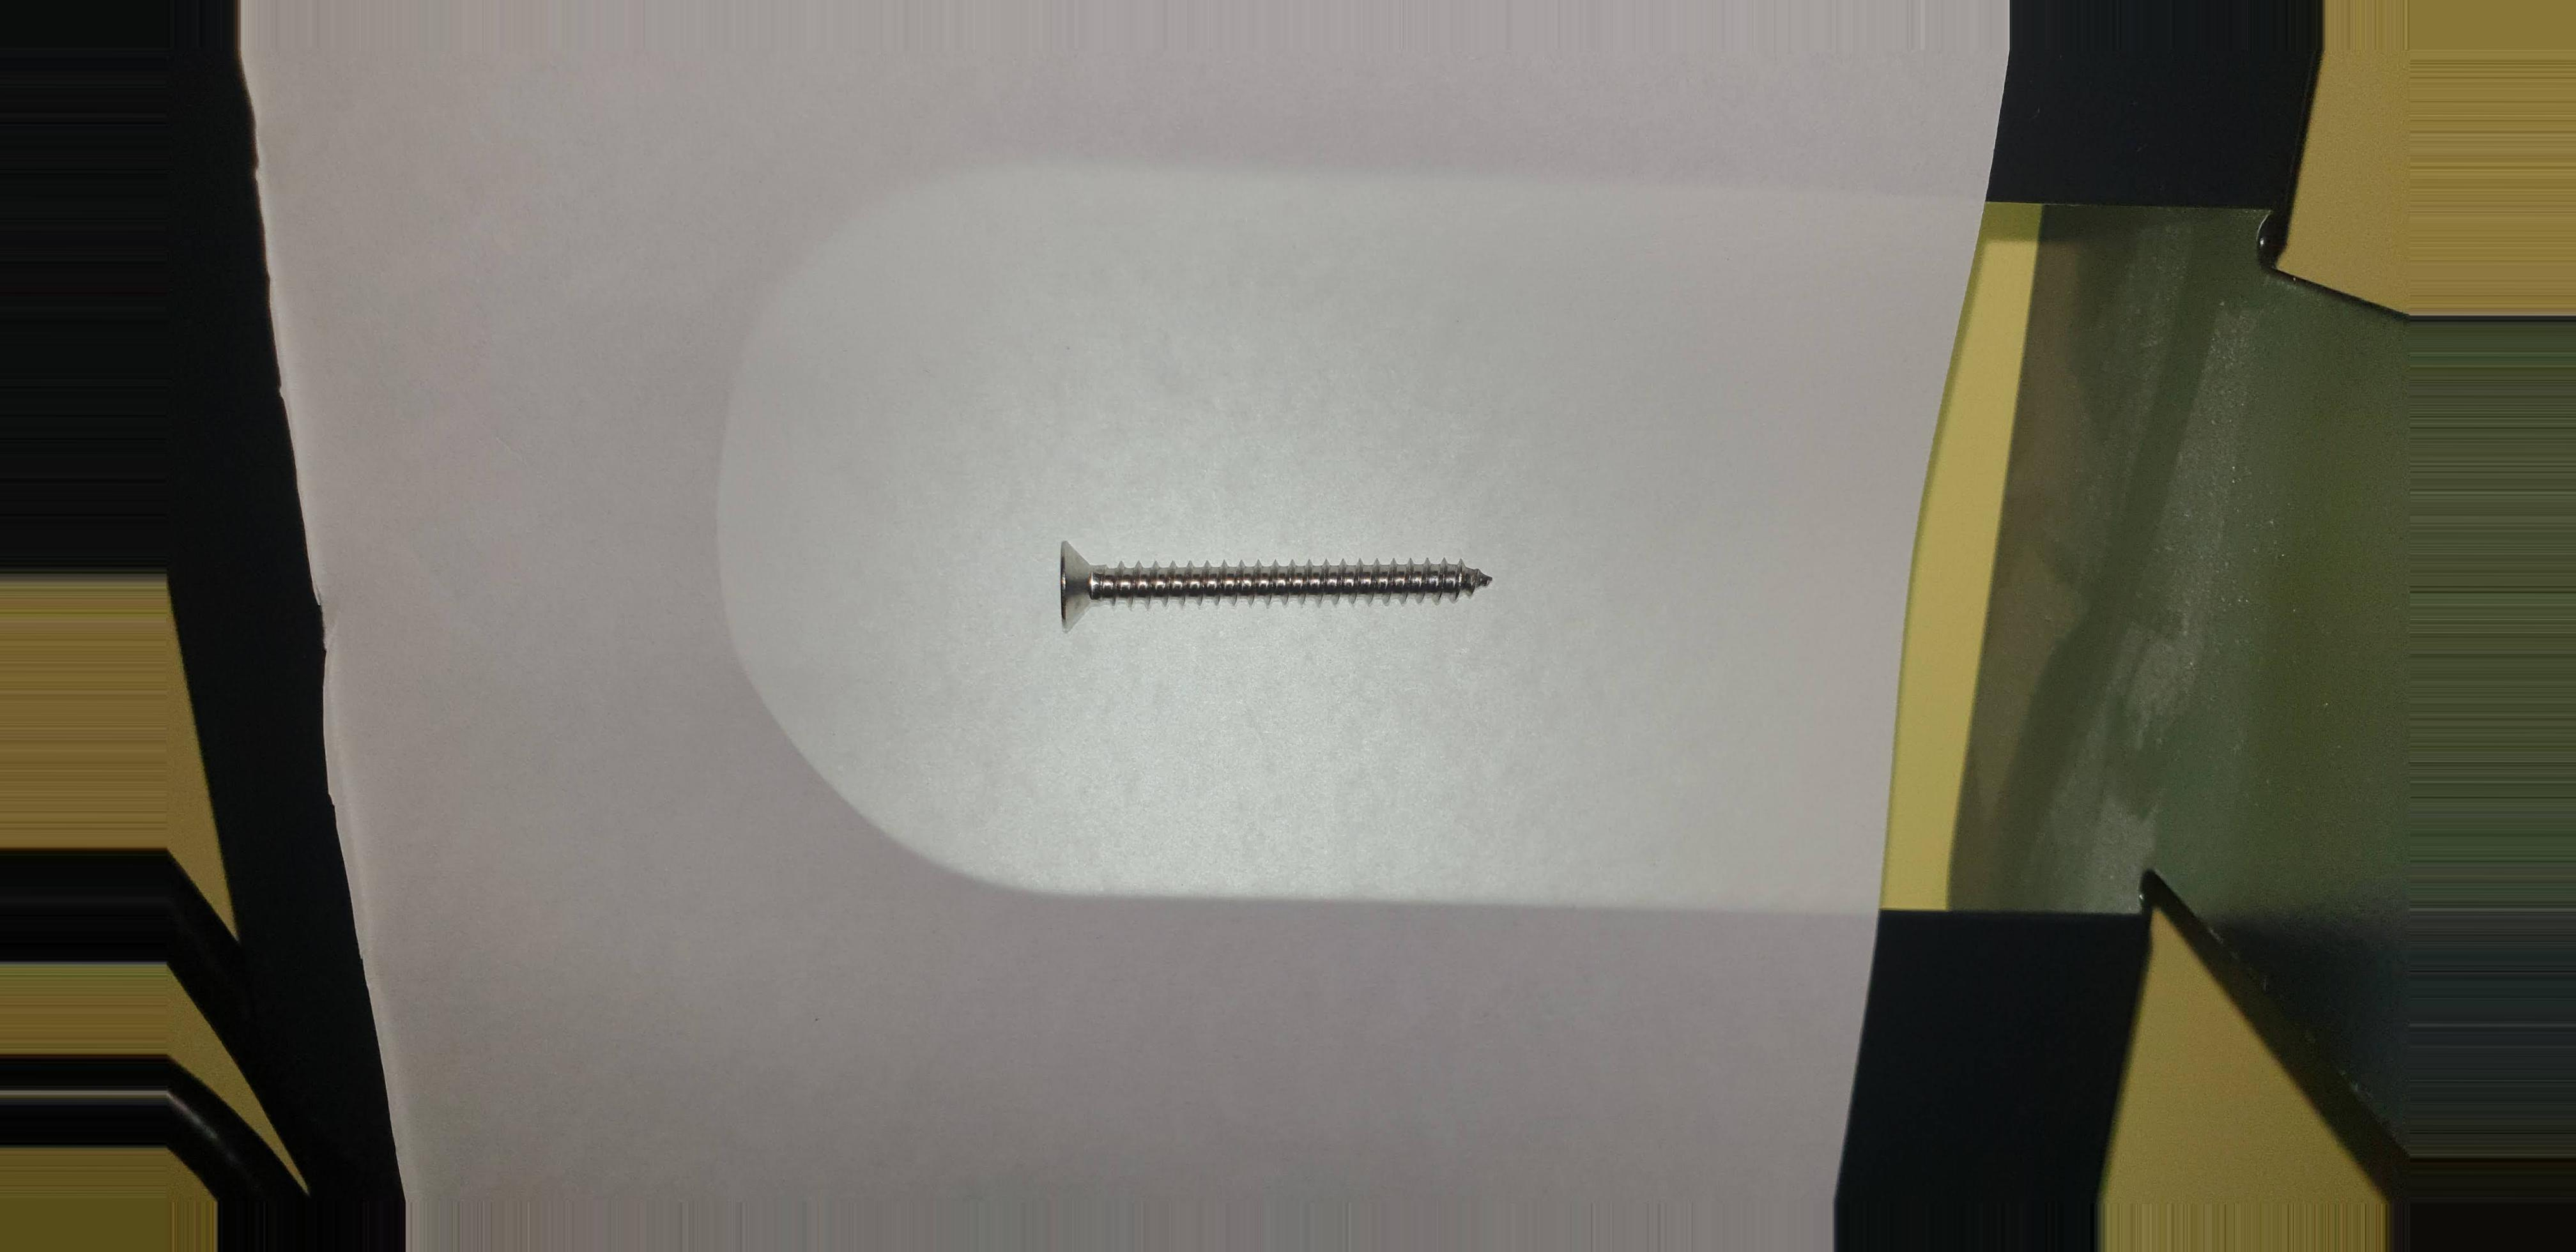fastener: (1035, 521, 1544, 651)
